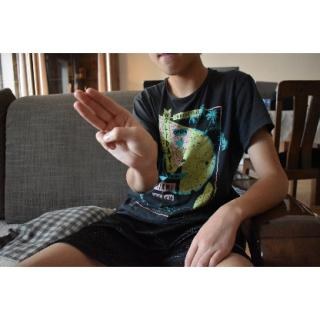THA: (72, 82, 161, 172)
